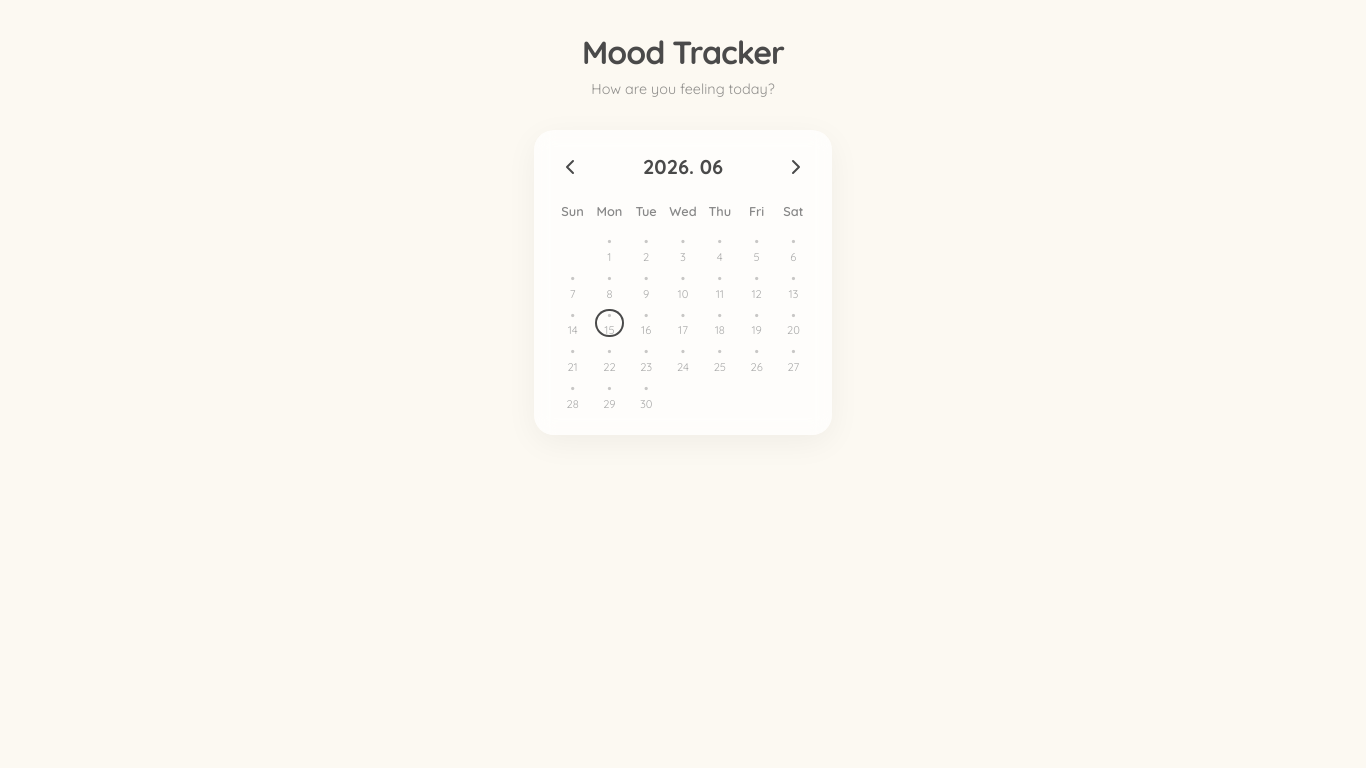
Mood Tracker App › should preserve recorded mood when navigating months
Record mood on June 10
Click the element with test id "cal-cell-2026-06-10" at point(684, 286), box [678,270,689,301]
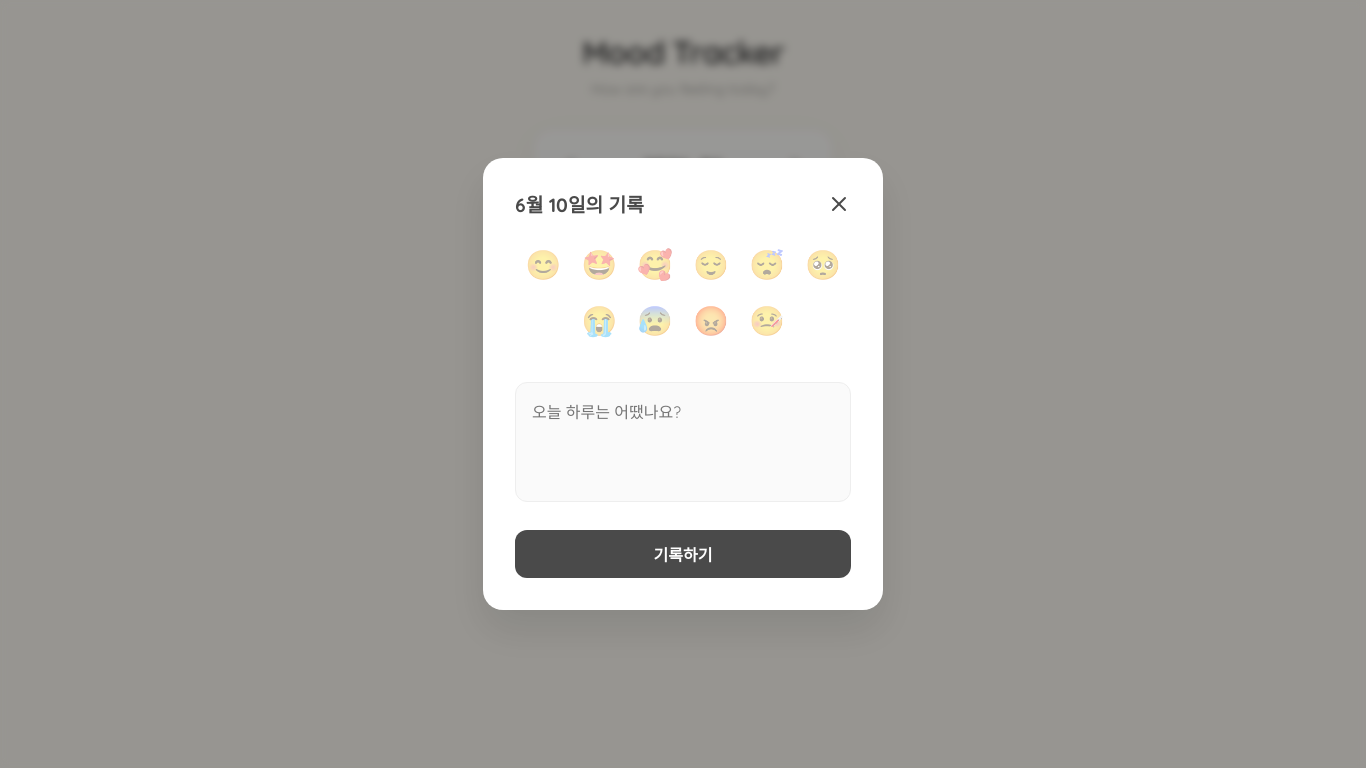
Click the button with test id "mood-btn-angry" at point(711, 320), box [689,298,733,342]
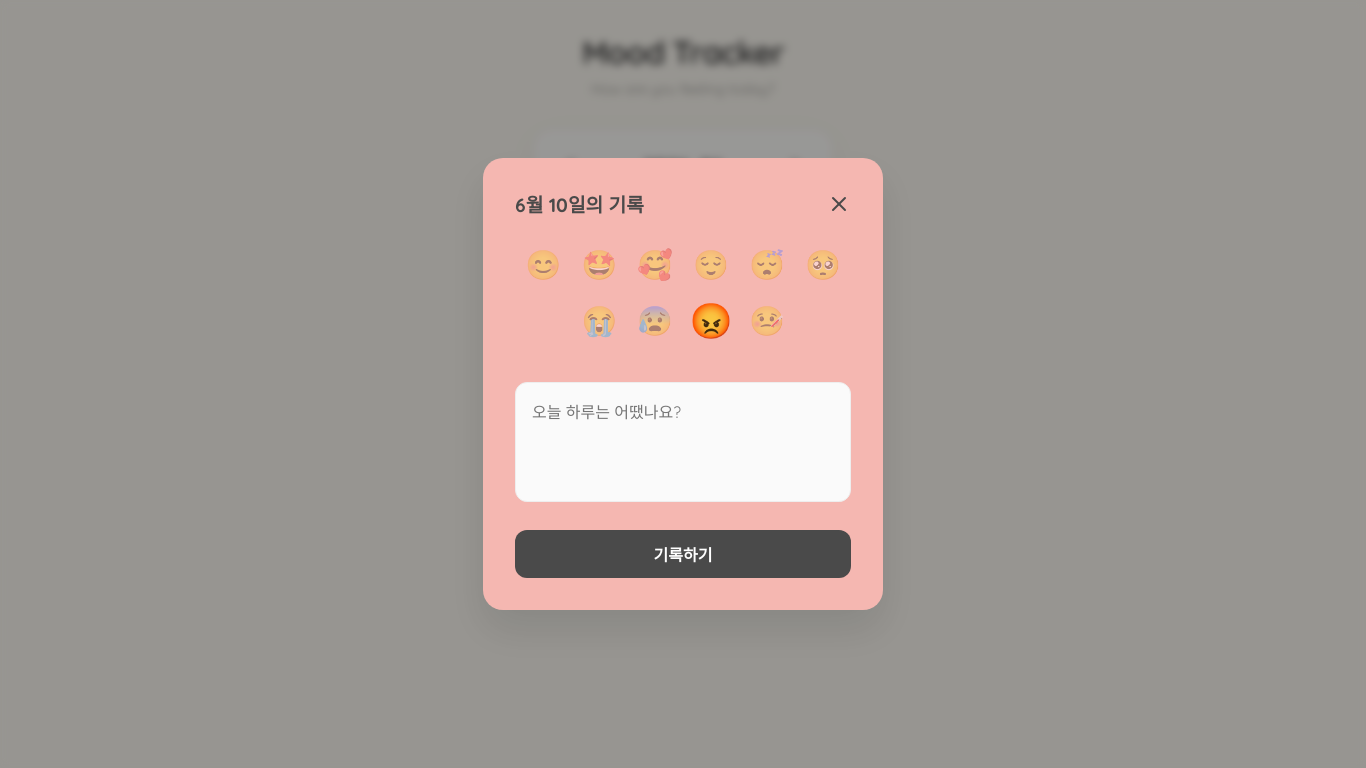
Type "Stepped on lego" into the text box with test id "note-input" at point(683, 442), box [515,382,851,502]
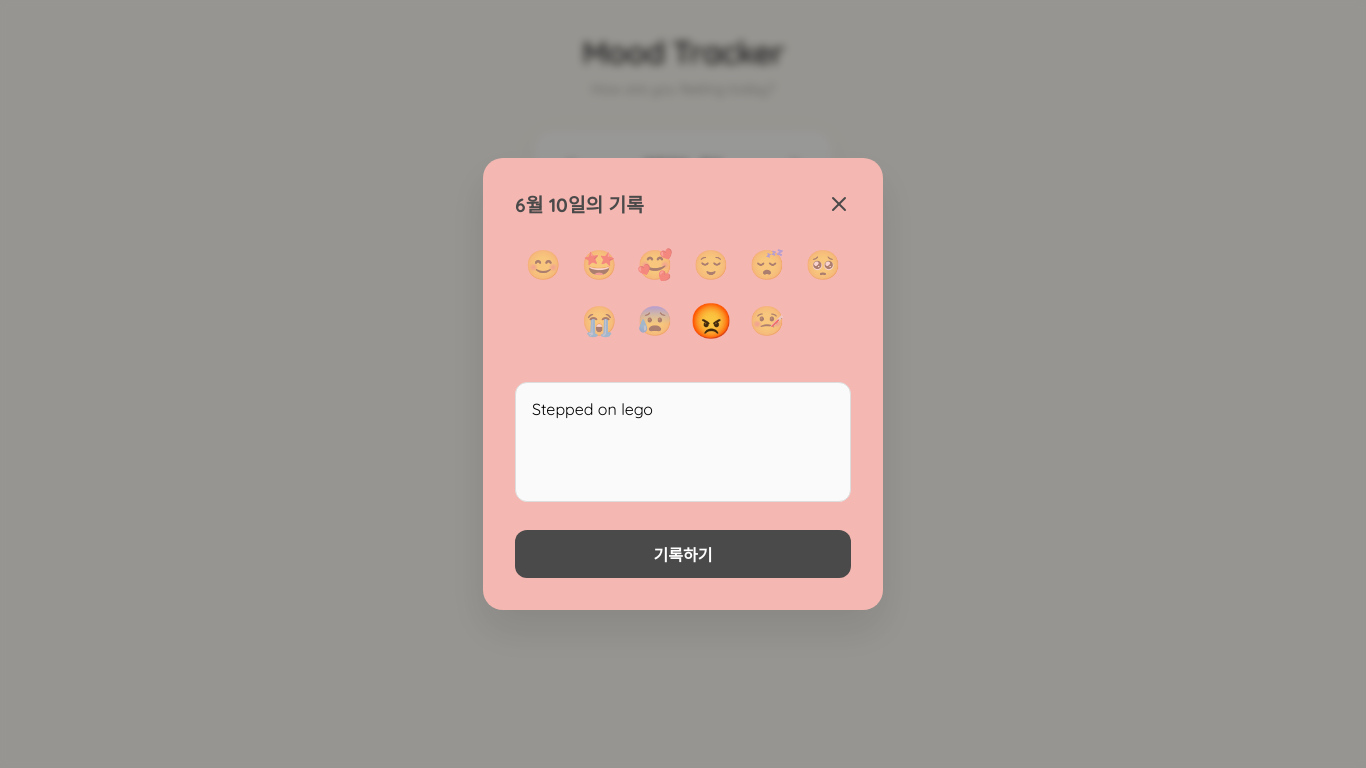
Click the button with test id "save-btn" at point(683, 554), box [515,530,851,578]
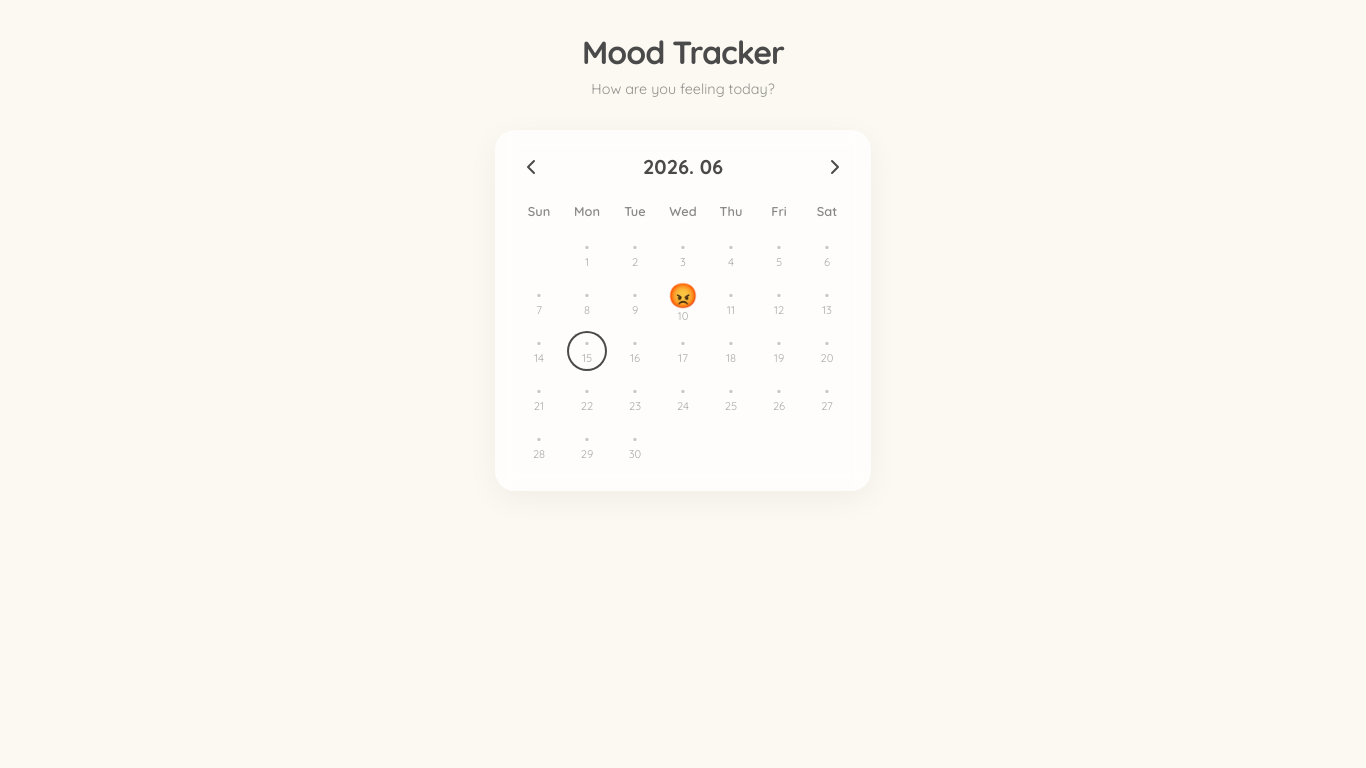
Check: the text with test id "cal-cell-2026-06-10" reads "😡", box [668,280,698,310]
Navigate away and back
Click the button with test id "next-month-btn" at point(835, 167), box [823,155,847,179]
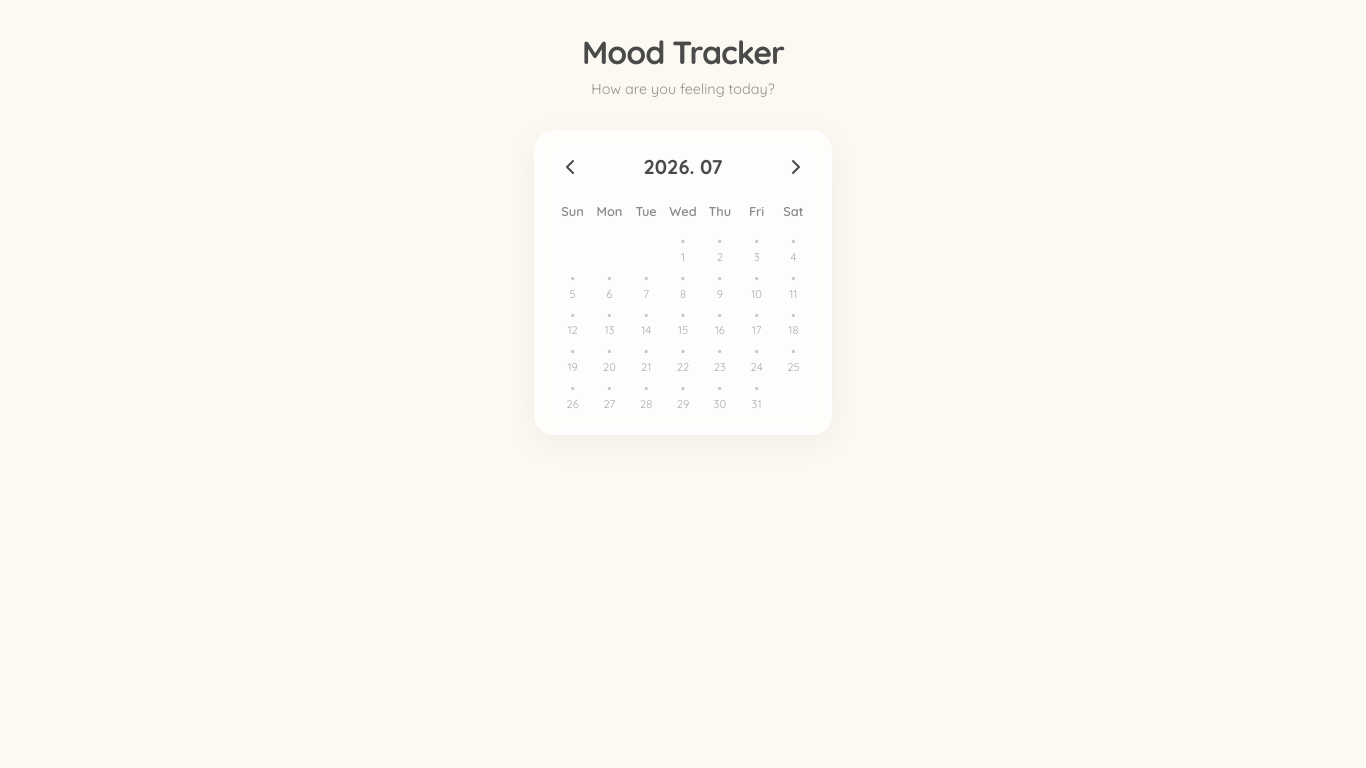
Click the button with test id "prev-month-btn" at point(570, 167), box [558,155,582,179]
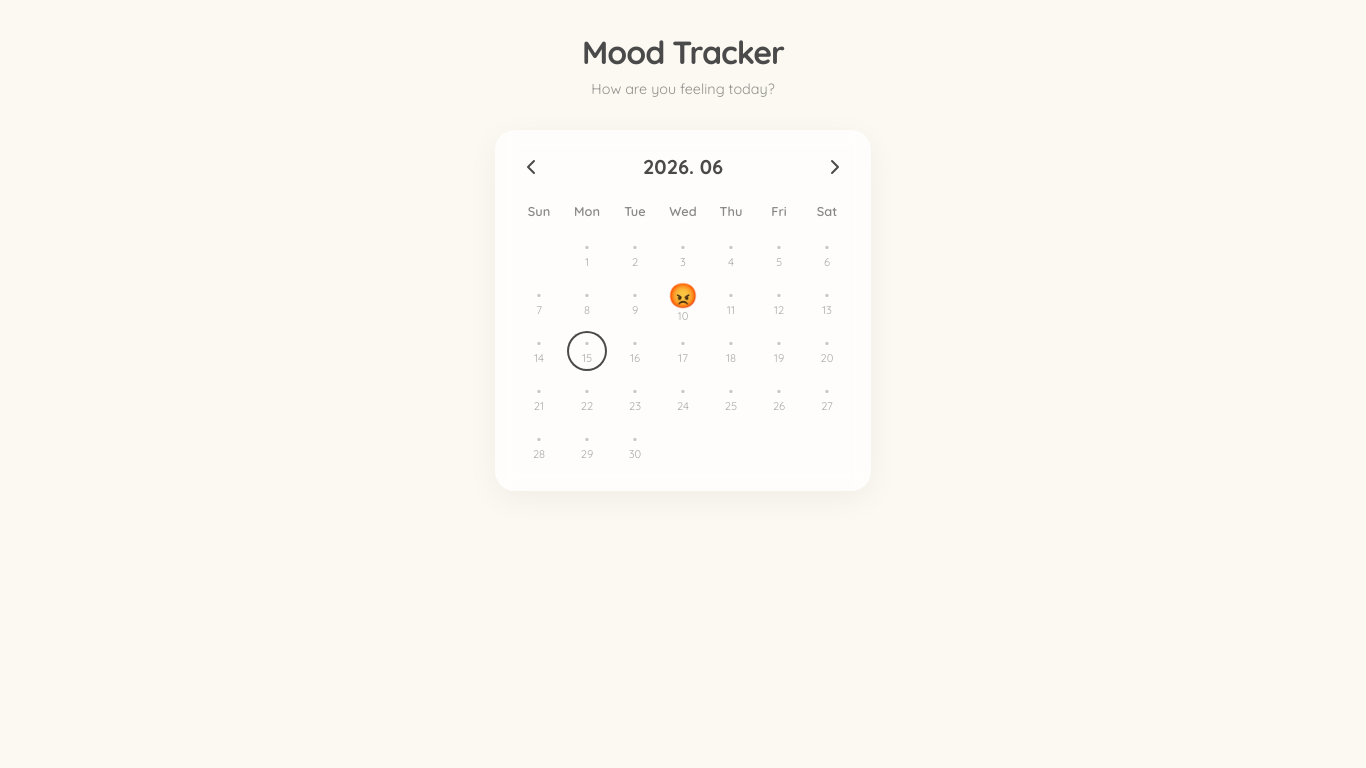
Check: the text with test id "cal-cell-2026-06-10" reads "😡", box [668,280,698,310]
